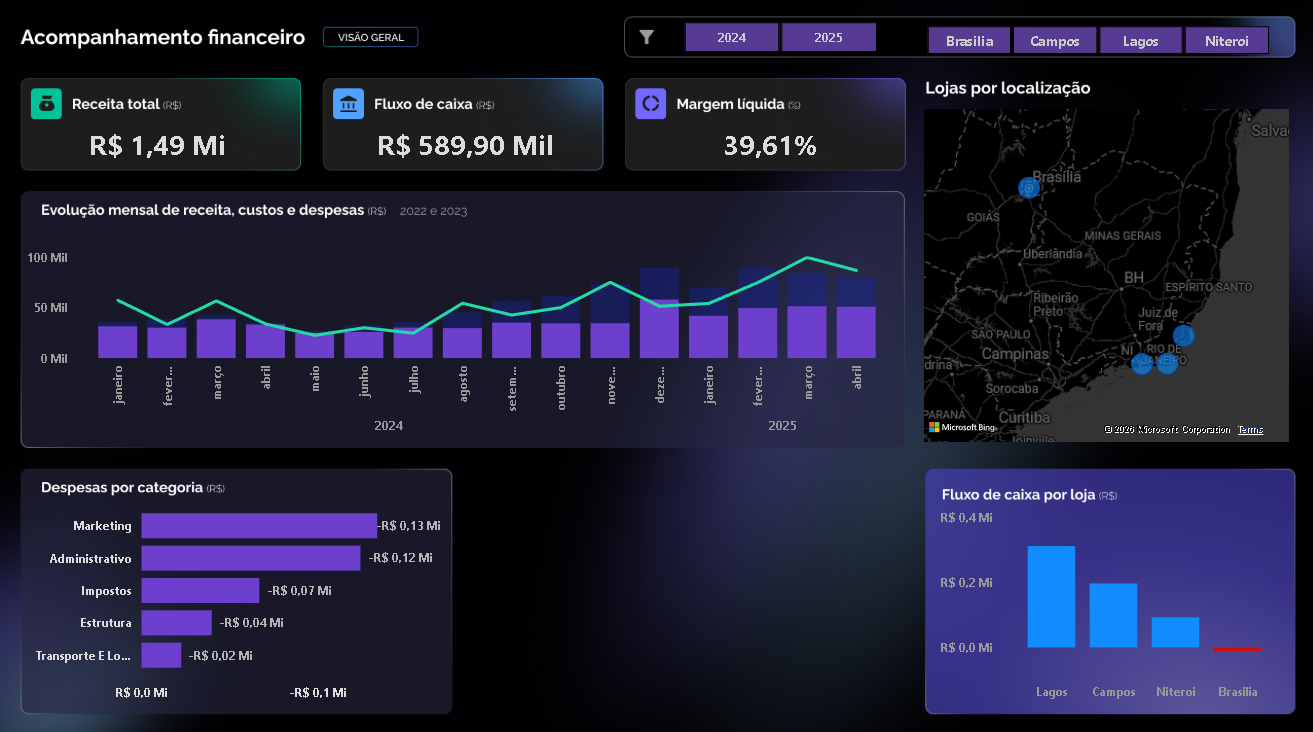

This screenshot's page, from the dashboard's own definition file:
{"tool":"powerbi","page":{"name":"Página 1","canvas":[1280,720],"ordinal":0},"visuals":[{"type":"card","fields":{"Values":["Medidas.Receitas"]},"box":[60.2,123.7,186,39.8],"z":0},{"type":"card","fields":{"Values":["Medidas.Lucro Total"]},"box":[341.9,125.8,220.4,35.5],"z":2},{"type":"card","fields":{"Values":["Medidas.Margem %"]},"box":[620.4,120.4,255.9,46.2],"z":3},{"type":"lineStackedColumnComboChart","fields":{"Category":["Lancamentos.Data.Variation.Hierarquia de datas.Ano","Lancamentos.Data.Variation.Hierarquia de datas.Mês"],"Y2":["Medidas.Receitas"],"Y":["Medidas.Custos VISUAL","Medidas.Despesas VISUAL"]},"box":[20.4,238.7,855.9,198.9],"z":4},{"type":"clusteredBarChart","fields":{"Category":["Lancamentos.Categoria"],"Y":["Medidas.Custos Total"]},"box":[11.8,475.3,452.7,217.2],"z":5},{"type":"columnChart","fields":{"Category":["Lojas.Nome Loja"],"Y":["Medidas.Lucro Total"]},"box":[908.6,491.4,349.5,201.1],"z":6},{"type":"map","fields":{"Y":["Lojas.Latitude"],"X":["Lojas.Longitude"],"Series":["Lancamentos.Situação"]},"box":[893.5,103.2,364.5,334.4],"z":8},{"type":"slicer","fields":{"Values":["Lancamentos.Data.Variation.Hierarquia de datas.Ano"]},"box":[639.8,16.1,236.6,43],"z":9},{"type":"slicer","fields":{"Values":["Lojas.Nome Loja"]},"box":[876.3,20.4,381.7,38.7],"z":10}]}

Visuals, with their boxes in screenshot pixels (x1, y1, x2, y2), scaled from the page's 1280x720 canvas onto the 1313x732 screenshot:
card - Medidas.Receitas: 62, 126, 253, 166
card - Medidas.Lucro Total: 351, 128, 577, 164
card - Medidas.Margem %: 636, 122, 899, 169
lineStackedColumnComboChart - Lancamentos.Data.Variation.Hierarquia de datas.Ano x Lancamentos.Data.Variation.Hierarquia de datas.Mês: 21, 243, 899, 445
clusteredBarChart - Lancamentos.Categoria x Medidas.Custos Total: 12, 483, 476, 704
columnChart - Lojas.Nome Loja x Medidas.Lucro Total: 932, 500, 1291, 704
map - Lojas.Latitude x Lojas.Longitude: 917, 105, 1290, 445
slicer - Lancamentos.Data.Variation.Hierarquia de datas.Ano: 656, 16, 899, 60
slicer - Lojas.Nome Loja: 899, 21, 1290, 60
